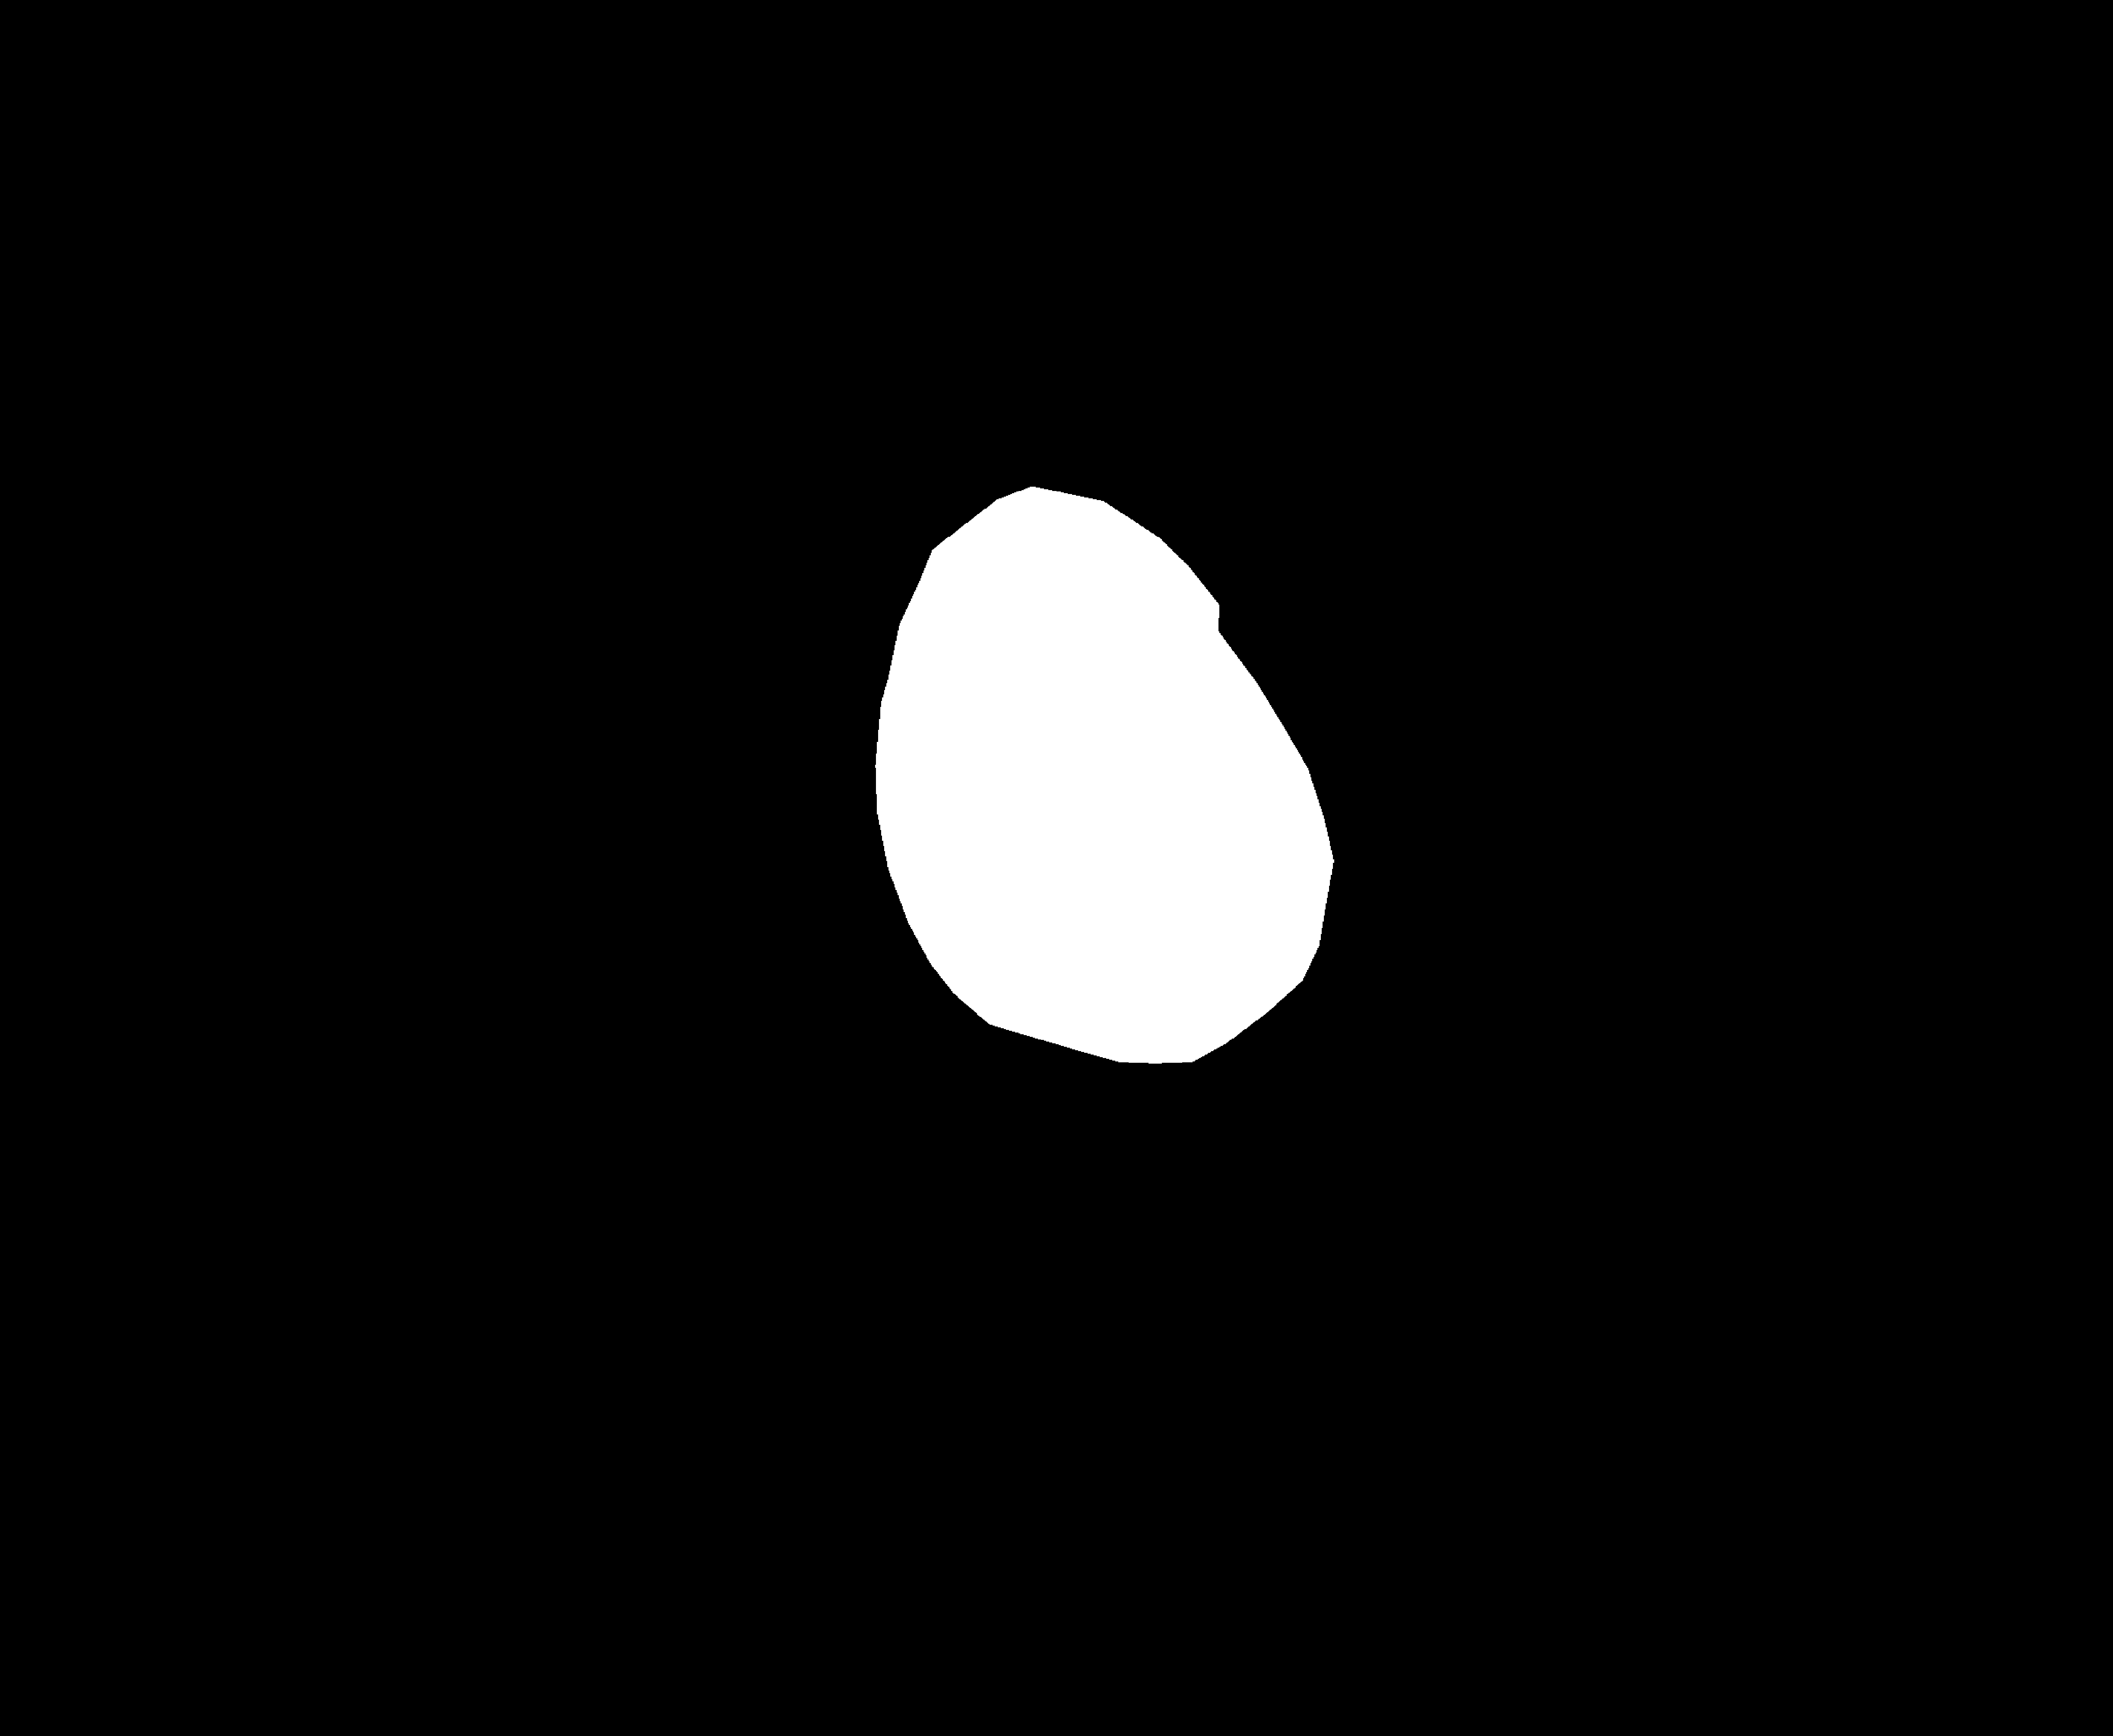heart: (870, 646, 1332, 1015)
left_lung: (486, 181, 963, 1067)
right_lung: (1078, 161, 1579, 1032)
